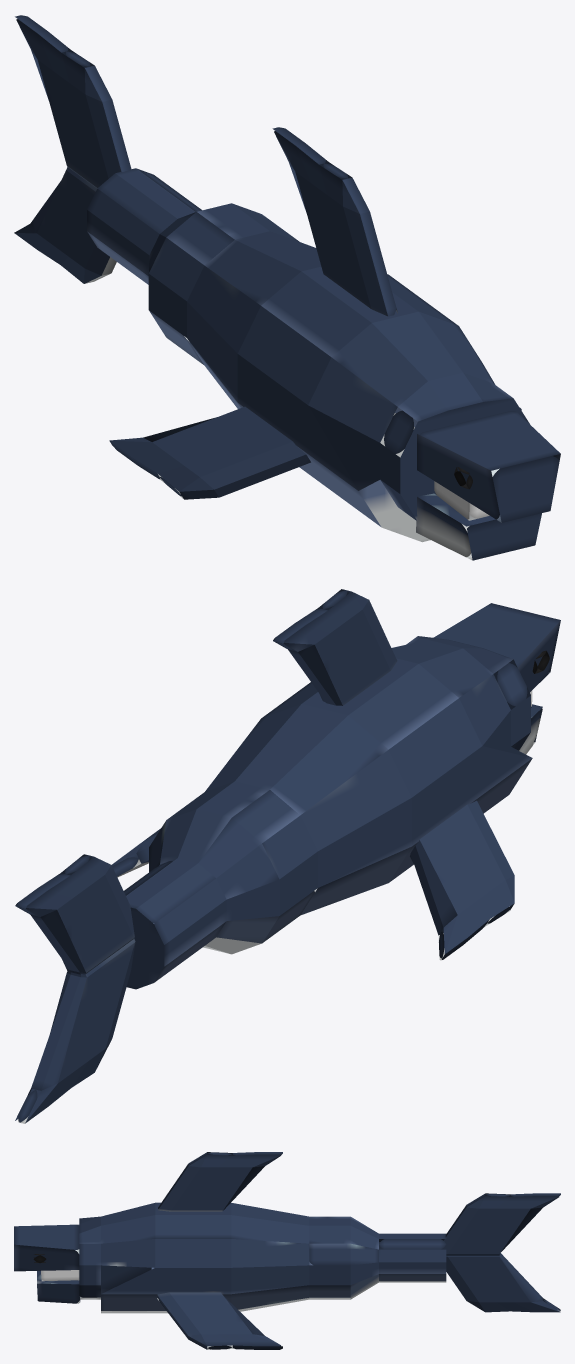
Rendered from Shark 1.fbx.
3 views of the same model, one above another, from view 1: azimuth 30°, elevation 25°; view 2: azimuth 150°, elevation 25°; view 3: azimuth 270°, elevation 25° (orthographic). The views are drawn at different scales.
Parts seen in each view (by area): view 1: Body, Head, Tail Fin, Dorsal Fins; view 2: Body, Tail Fin, Dorsal Fins, Head; view 3: Body, Tail Fin, Head, Dorsal Fins.
Boxes of the visible parts, bbox=[...] form: Body: bbox=[87, 127, 529, 542]; Head: bbox=[416, 411, 560, 560]; Tail Fin: bbox=[14, 15, 131, 283]; Dorsal Fins: bbox=[109, 406, 521, 499]; Body: bbox=[124, 589, 532, 989]; Tail Fin: bbox=[15, 854, 135, 1123]; Dorsal Fins: bbox=[112, 800, 514, 960]; Head: bbox=[433, 603, 560, 754]; Body: bbox=[79, 1152, 446, 1313]; Tail Fin: bbox=[441, 1193, 560, 1312]; Head: bbox=[14, 1224, 80, 1303]; Dorsal Fins: bbox=[157, 1292, 282, 1349].
Size of the model in its own units: 61.38 by 50.13 by 157.
Materials: 1 (1 with a texture image).
